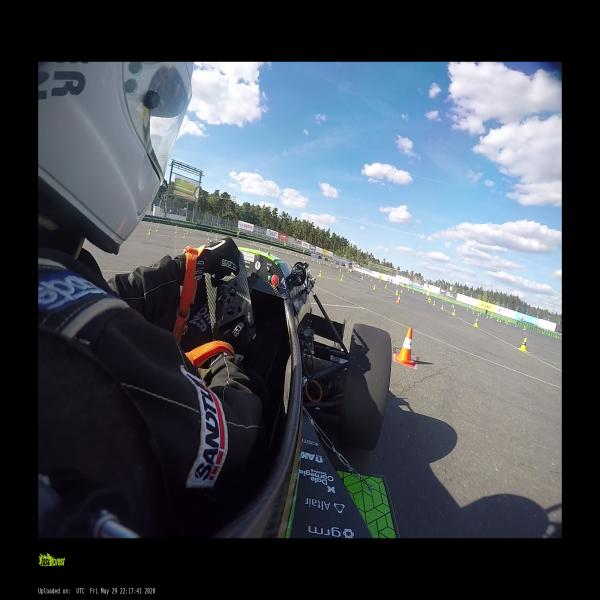orange_cone: (394, 327, 415, 367), (397, 294, 400, 304)
yellow_cone: (519, 338, 527, 352), (472, 318, 479, 327), (214, 234, 218, 242), (318, 269, 322, 277), (451, 309, 455, 315), (147, 229, 151, 235), (440, 304, 444, 310), (373, 284, 376, 290), (395, 289, 398, 295), (340, 275, 343, 281), (183, 232, 186, 238), (156, 226, 159, 231), (433, 301, 435, 306), (361, 276, 363, 280), (384, 285, 386, 289), (506, 322, 508, 326), (370, 278, 372, 282), (175, 229, 177, 233), (407, 288, 409, 291), (400, 289, 402, 292), (412, 291, 414, 294), (187, 230, 188, 234), (478, 313, 479, 316), (497, 319, 498, 321)
